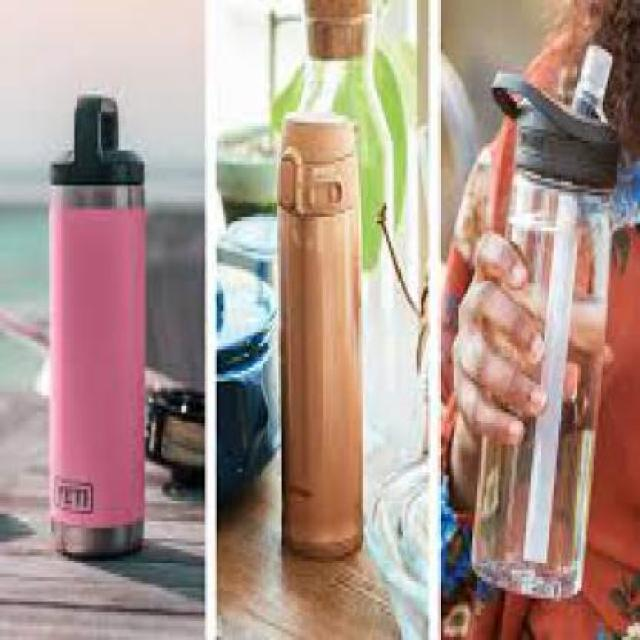Drinking: (444, 13, 640, 629), (256, 94, 384, 612), (34, 88, 160, 560)
